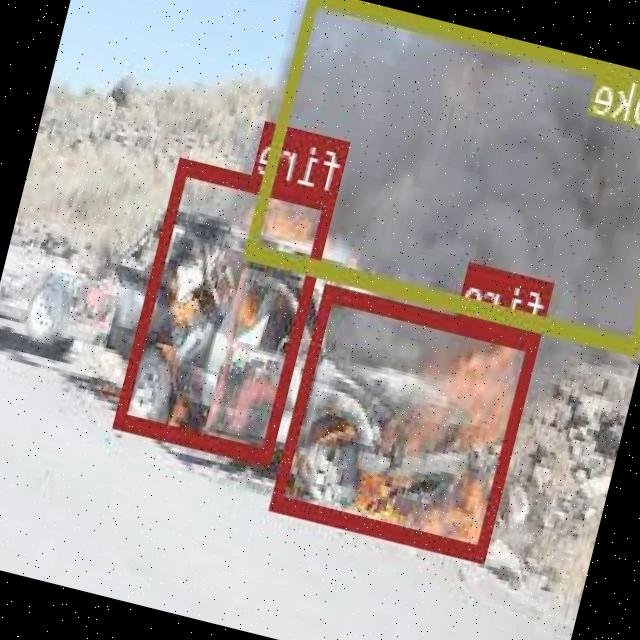fire: (272, 283, 541, 559), (115, 156, 338, 464)
smoke: (245, 0, 640, 355)
